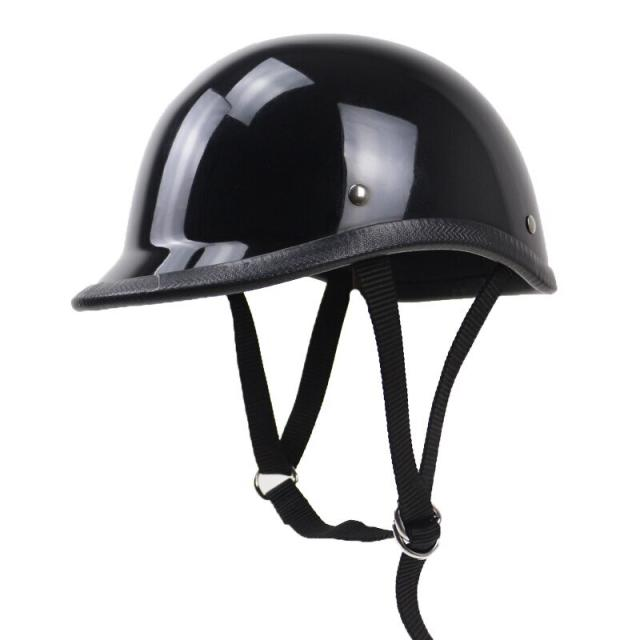illegal_helmet: (69, 25, 565, 640)
